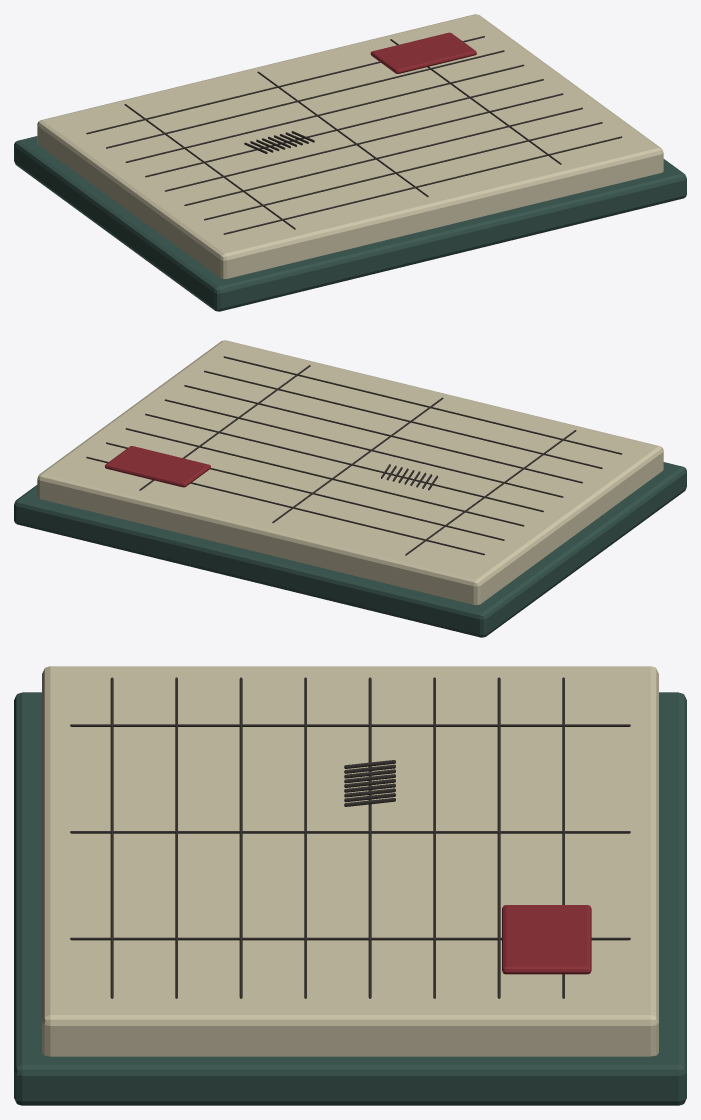
Rendered from story-medical-record.fbx.
3 renders of one model, top to bottom at view 1: azimuth 30°, elevation 25°; view 2: azimuth 150°, elevation 25°; view 3: azimuth 270°, elevation 25°, orthographic. The views are drawn at different scales.
Parts seen in each view (by area): view 1: Paper block, Bound cover, False dismissal stamp, Ruled record line, Ruled record line.003, Ruled record line.001, Ruled record line.002, Ruled record line.005, Ruled record line.006, Ruled record line.004, Ruled record line.007, Record column (+1 smaller); view 2: Paper block, Bound cover, False dismissal stamp, Ruled record line.005, Ruled record line, Ruled record line.001, Ruled record line.003, Ruled record line.002, Ruled record line.004, Ruled record line.006, Ruled record line.007, Record column (+1 smaller); view 3: Paper block, Bound cover, False dismissal stamp, Record column.002, Record column, Record column.001, Ruled record line, Ruled record line.002, Ruled record line.006, Ruled record line.004, Ruled record line.001, Ruled record line.003 (+2 smaller).
Part boxes in pixels (x1=…): Paper block: x1=37, y1=14, x2=663, y2=278; Bound cover: x1=14, y1=136, x2=686, y2=311; False dismissal stamp: x1=370, y1=32, x2=476, y2=73; Ruled record line: x1=223, y1=136, x2=622, y2=234; Ruled record line.003: x1=165, y1=93, x2=563, y2=191; Ruled record line.001: x1=204, y1=122, x2=602, y2=220; Ruled record line.002: x1=184, y1=107, x2=582, y2=205; Ruled record line.005: x1=125, y1=64, x2=524, y2=162; Ruled record line.006: x1=106, y1=50, x2=504, y2=148; Ruled record line.004: x1=145, y1=79, x2=543, y2=177; Ruled record line.007: x1=86, y1=36, x2=484, y2=134; Record column: x1=124, y1=104, x2=295, y2=229; Paper block: x1=37, y1=340, x2=663, y2=604; Bound cover: x1=14, y1=462, x2=686, y2=637; False dismissal stamp: x1=104, y1=446, x2=210, y2=487; Ruled record line.005: x1=125, y1=428, x2=524, y2=526; Ruled record line: x1=223, y1=356, x2=622, y2=454; Ruled record line.001: x1=204, y1=370, x2=602, y2=468; Ruled record line.003: x1=164, y1=399, x2=563, y2=497; Ruled record line.002: x1=184, y1=385, x2=582, y2=483; Ruled record line.004: x1=145, y1=413, x2=543, y2=511; Ruled record line.006: x1=106, y1=442, x2=504, y2=540; Ruled record line.007: x1=86, y1=456, x2=484, y2=555; Record column: x1=405, y1=430, x2=576, y2=555; Paper block: x1=42, y1=666, x2=658, y2=1056; Bound cover: x1=14, y1=692, x2=686, y2=1105; False dismissal stamp: x1=502, y1=905, x2=591, y2=974; Record column.002: x1=70, y1=937, x2=630, y2=940; Record column: x1=70, y1=724, x2=630, y2=726; Record column.001: x1=70, y1=831, x2=630, y2=833; Ruled record line: x1=110, y1=677, x2=113, y2=998; Ruled record line.002: x1=239, y1=677, x2=242, y2=998; Ruled record line.006: x1=497, y1=677, x2=500, y2=998; Ruled record line.004: x1=368, y1=677, x2=371, y2=998; Ruled record line.001: x1=175, y1=677, x2=177, y2=998; Ruled record line.003: x1=304, y1=677, x2=306, y2=998.
Size of the model in its own units: 0.32 by 0.0355 by 0.24.
